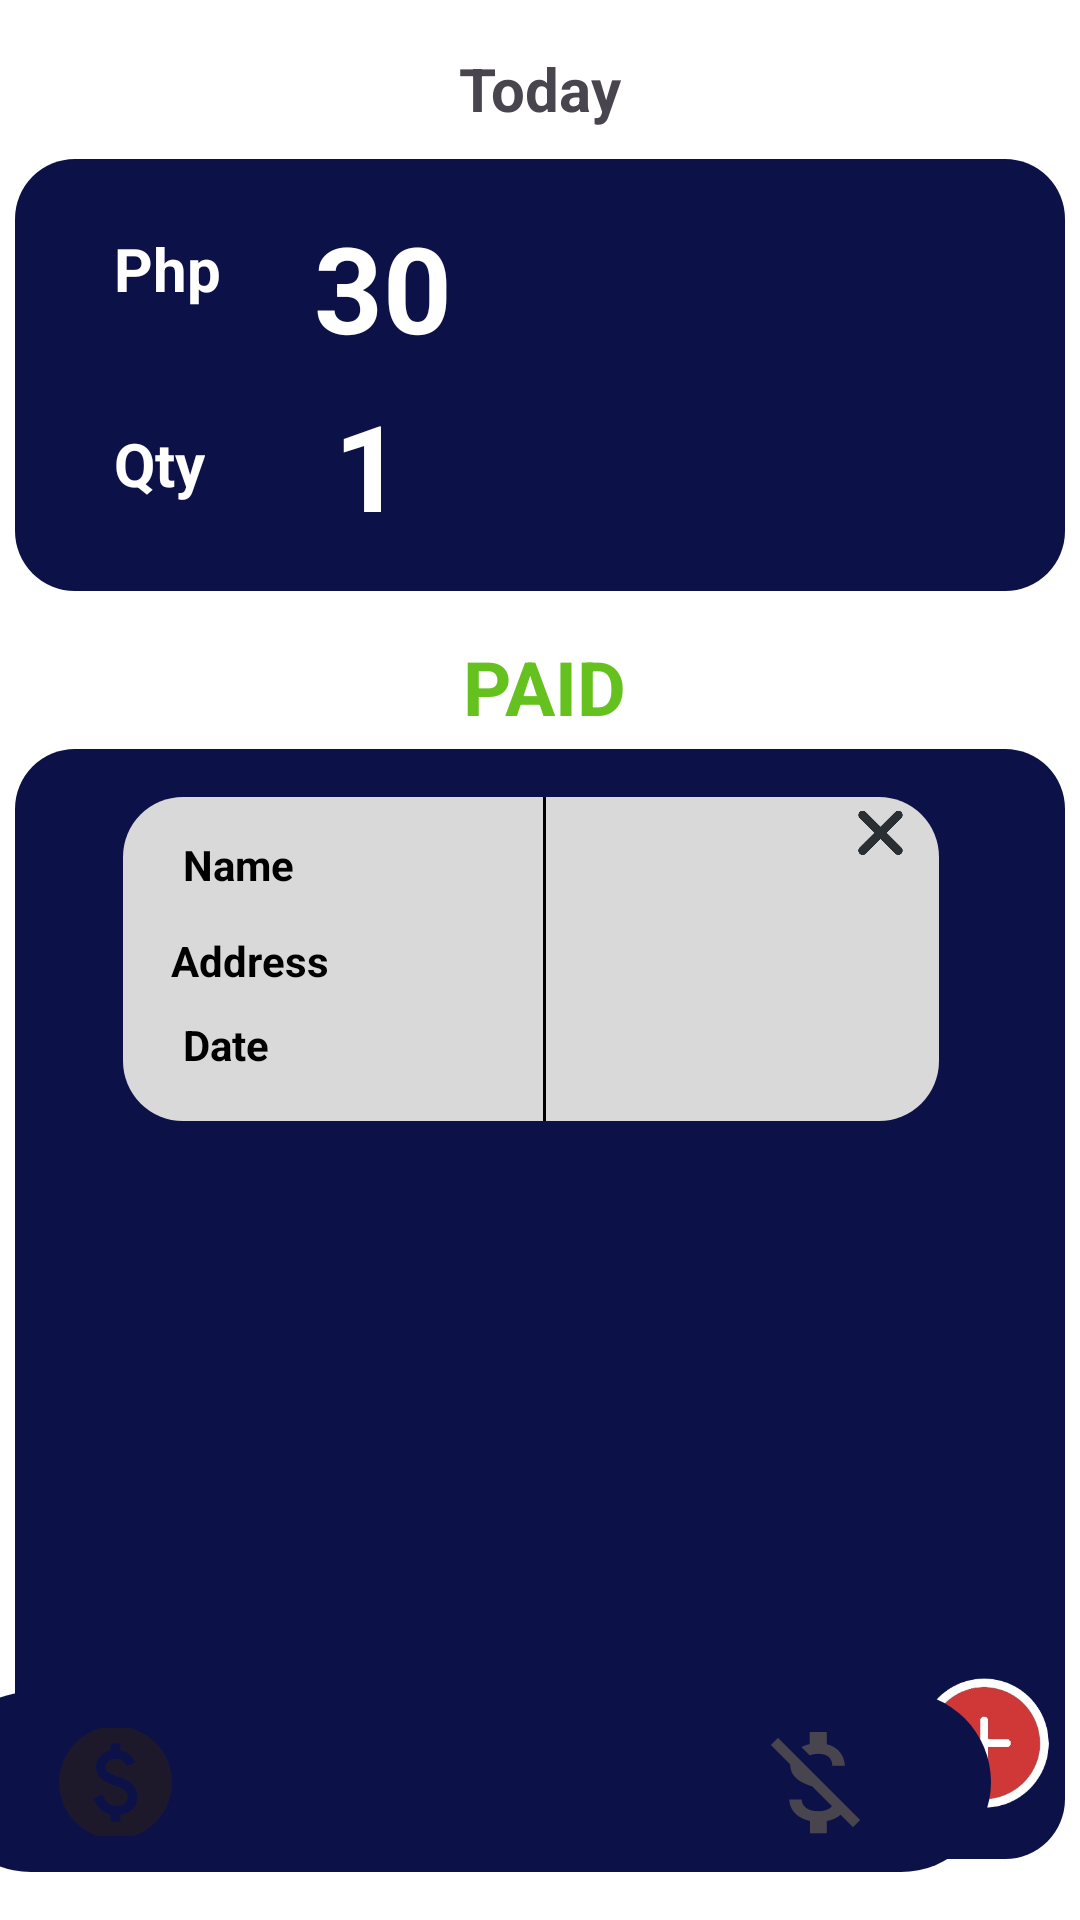

Icons on this 1080px×1920px Android screen, each with its box as (x1, y1, x2, y2):
delete: (858, 811, 903, 855)
